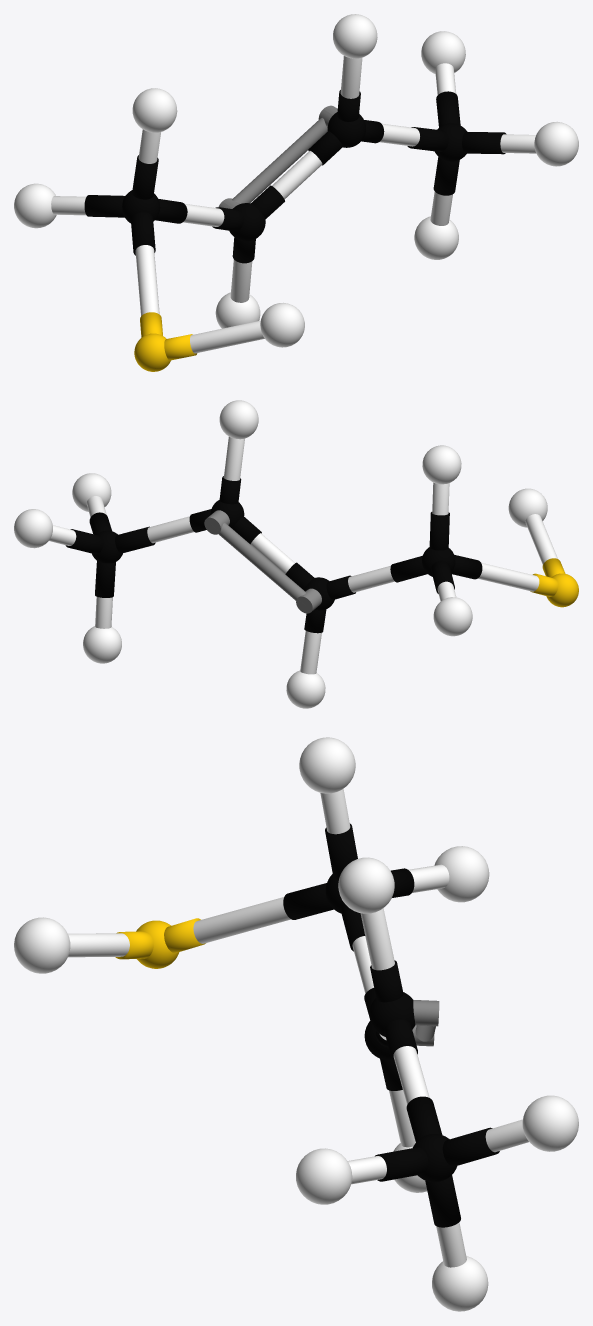
The model's file is Crotyl_mercaptan.dae.
3 views of the same model, one above another, from view 1: azimuth 30°, elevation 25°; view 2: azimuth 150°, elevation 25°; view 3: azimuth 270°, elevation 25° (orthographic). The views are drawn at different scales.
Visible parts, largest first — view 1: Liaison_double, Hydrogène_006, Hydrogène_4, Hydrogène_000, Hydrogène_007, Hydrogène_005, Hydrogène_002, Hydrogène_003, LiaisonSimple_022, LiaisonSimple_023, Hydrogène_001, Souffre (+29 smaller); view 2: Liaison_double, Hydrogène_005, Hydrogène_007, Hydrogène_003, Hydrogène_006, Hydrogène_001, Hydrogène_002, Hydrogène_000, Hydrogène_4, LiaisonSimple_023, LiaisonSimple_022, LiaisonSimple_021 (+25 smaller); view 3: Hydrogène_006, Hydrogène_000, Hydrogène_007, Hydrogène_003, Hydrogène_4, Hydrogène_002, LiaisonSimple_023, Hydrogène_005, LiaisonSimple_022, LiaisonSimple_014, Valence3_007, Valence2_007 (+19 smaller).
Part boxes in pixels (bbox=[...]): Liaison_double: bbox=[218, 105, 337, 208]; Hydrogène_006: bbox=[132, 88, 177, 132]; Hydrogène_4: bbox=[534, 121, 578, 166]; Hydrogène_000: bbox=[260, 302, 304, 347]; Hydrogène_007: bbox=[333, 14, 377, 58]; Hydrogène_005: bbox=[14, 183, 56, 228]; Hydrogène_002: bbox=[414, 216, 458, 259]; Hydrogène_003: bbox=[421, 31, 465, 73]; LiaisonSimple_022: bbox=[190, 320, 264, 353]; LiaisonSimple_023: bbox=[135, 245, 159, 315]; Hydrogène_001: bbox=[215, 292, 260, 328]; Souffre: bbox=[134, 333, 170, 371]; Liaison_double: bbox=[204, 510, 321, 613]; Hydrogène_005: bbox=[433, 597, 472, 636]; Hydrogène_007: bbox=[219, 400, 258, 439]; Hydrogène_003: bbox=[14, 509, 52, 548]; Hydrogène_006: bbox=[422, 445, 461, 484]; Hydrogène_001: bbox=[286, 670, 325, 708]; Hydrogène_002: bbox=[83, 626, 121, 663]; Hydrogène_000: bbox=[508, 488, 547, 527]; Hydrogène_4: bbox=[72, 473, 111, 511]; LiaisonSimple_023: bbox=[478, 563, 539, 591]; LiaisonSimple_022: bbox=[525, 514, 557, 564]; LiaisonSimple_021: bbox=[147, 516, 193, 543]; Hydrogène_006: bbox=[299, 737, 355, 793]; Hydrogène_000: bbox=[14, 917, 70, 973]; Hydrogène_007: bbox=[338, 857, 394, 913]; Hydrogène_003: bbox=[522, 1095, 578, 1151]; Hydrogène_4: bbox=[296, 1148, 352, 1204]; Hydrogène_002: bbox=[432, 1256, 488, 1311]; LiaisonSimple_023: bbox=[193, 897, 290, 943]; Hydrogène_005: bbox=[434, 846, 489, 902]; LiaisonSimple_022: bbox=[68, 933, 129, 957]; LiaisonSimple_014: bbox=[360, 908, 394, 970]; Valence3_007: bbox=[425, 1175, 460, 1227]; Valence2_007: bbox=[442, 1127, 499, 1166].
Size of the model in its own units: 5.6 by 4.3 by 3.27.
